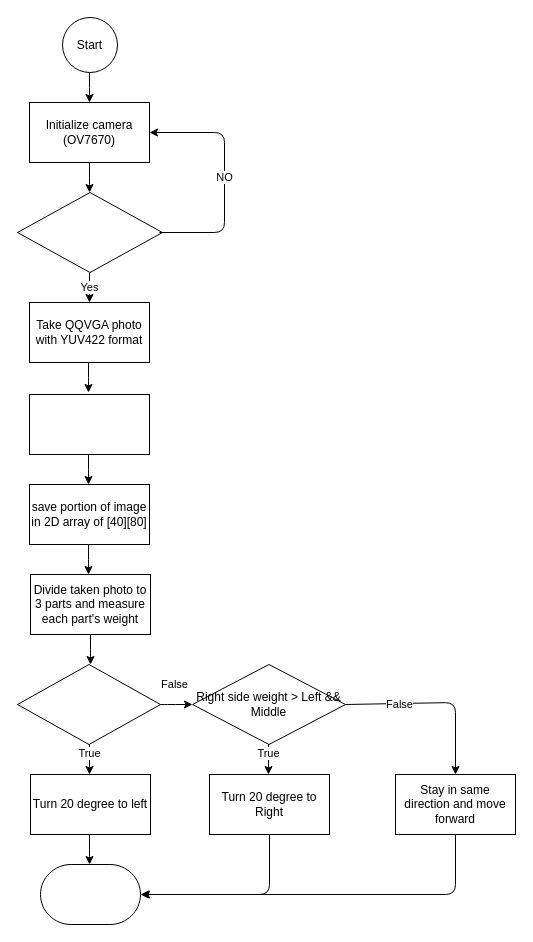
This 533x942 diagram has some shape labels left out. The box of each missing label's shape, as (x1, y1, x2, y2) in pixels:
Camera is initialized: (16, 192, 162, 272)
Completion for single photo: (40, 864, 140, 924)
extract the Y component of photo: (28, 394, 150, 454)
Left side weight > Middle && Right: (16, 664, 160, 744)
